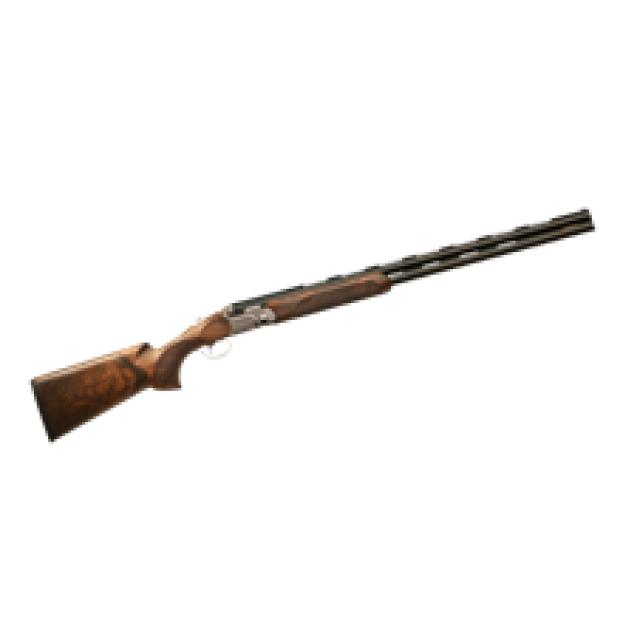rifle: (28, 201, 603, 451)
